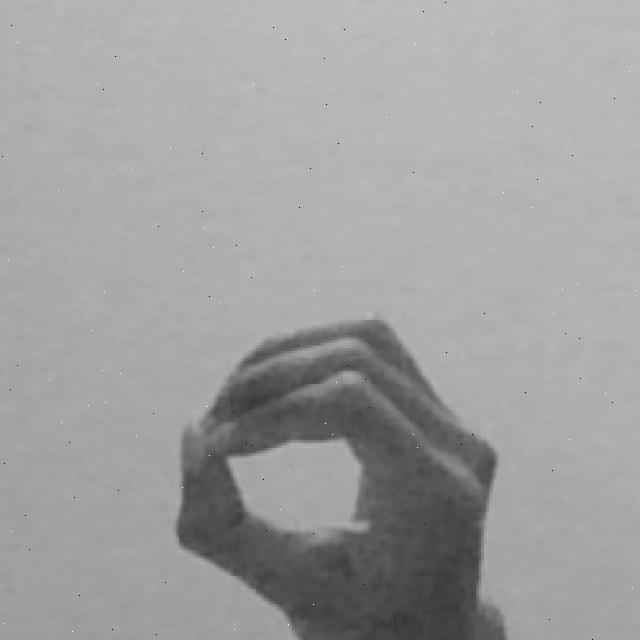O: (165, 307, 519, 640)
